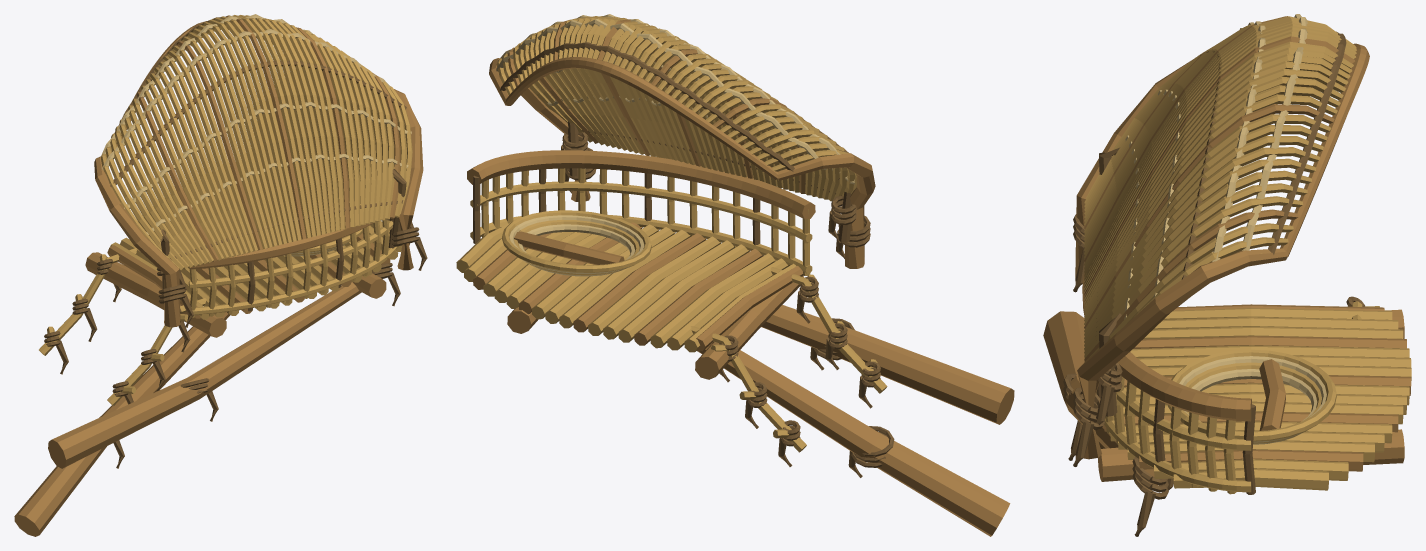
Rendered from sleeping-deck-compatible.glb.
The picture shows the model from 3 angles, left to right: view 1: azimuth 30°, elevation 25°; view 2: azimuth 150°, elevation 25°; view 3: azimuth 270°, elevation 25°; orthographic projection. The views are drawn at different scales.
Parts seen in each view (by area): view 1: sleeping-rainhood-weave, sleeping-deck-weave; view 2: sleeping-deck-weave, sleeping-rainhood-weave; view 3: sleeping-rainhood-weave, sleeping-deck-weave.
Part boxes in pixels (bbox=[...]): sleeping-rainhood-weave: bbox=[94, 14, 427, 327]; sleeping-deck-weave: bbox=[14, 219, 402, 536]; sleeping-deck-weave: bbox=[456, 150, 1014, 536]; sleeping-rainhood-weave: bbox=[489, 14, 875, 268]; sleeping-rainhood-weave: bbox=[1073, 14, 1369, 466]; sleeping-deck-weave: bbox=[1043, 273, 1411, 536].
Bounding box in the file's own units: 3.26 × 3.07 × 1.61.
